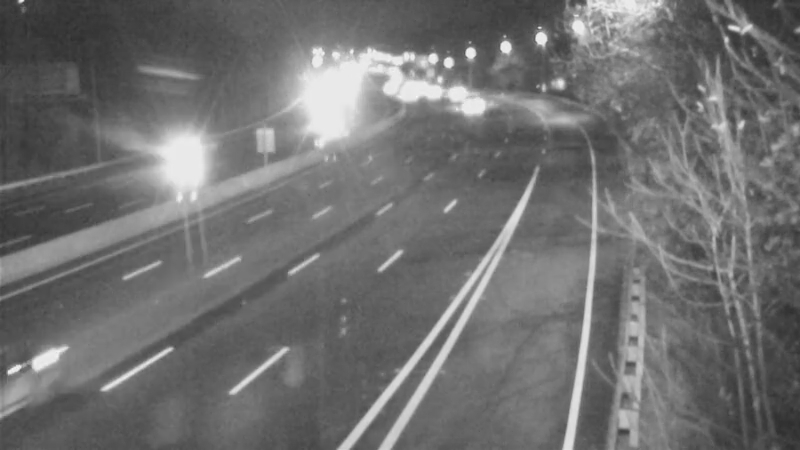vehicle: (1, 314, 95, 424), (149, 115, 229, 195), (445, 83, 495, 133)
